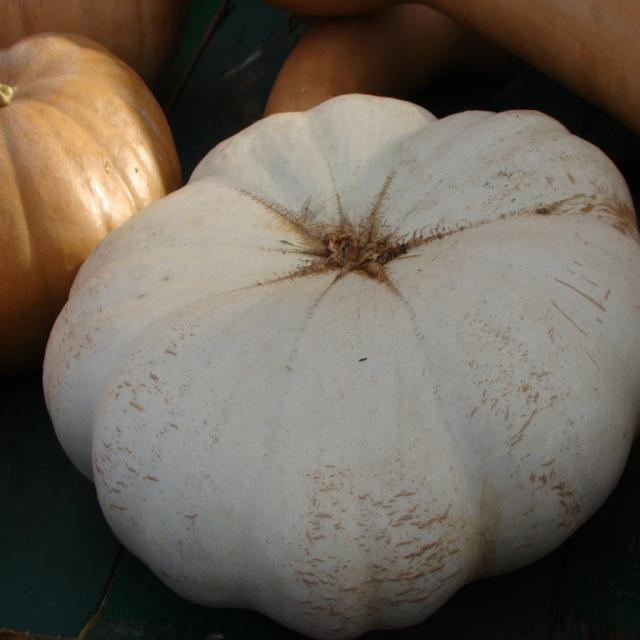Pumpkin: (42, 88, 640, 640), (0, 28, 186, 336), (427, 0, 640, 127), (263, 7, 471, 118), (0, 0, 184, 79)
